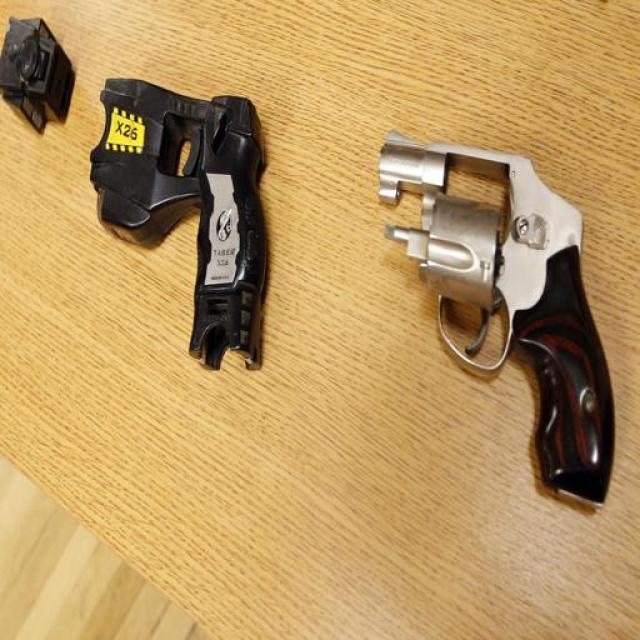pistol: (379, 107, 620, 545)
